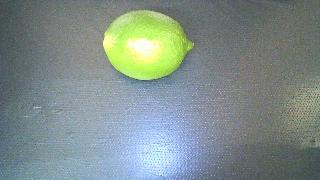EXPORTACION: (103, 10, 194, 80)
